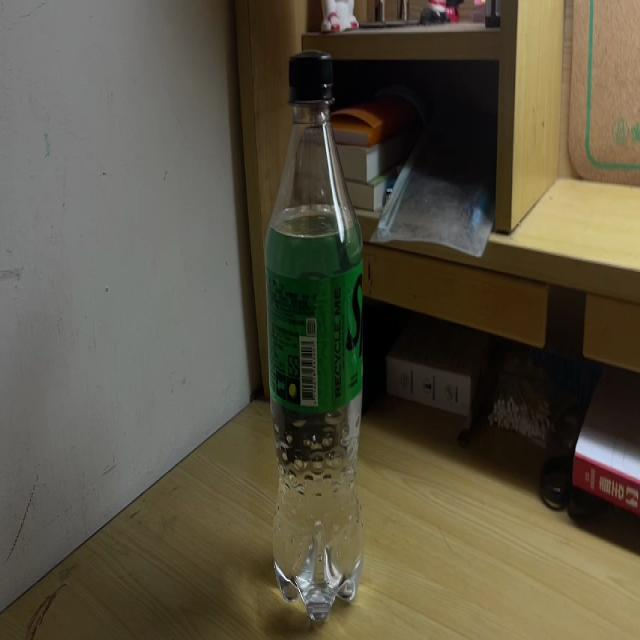Sprite: (262, 50, 363, 628)
